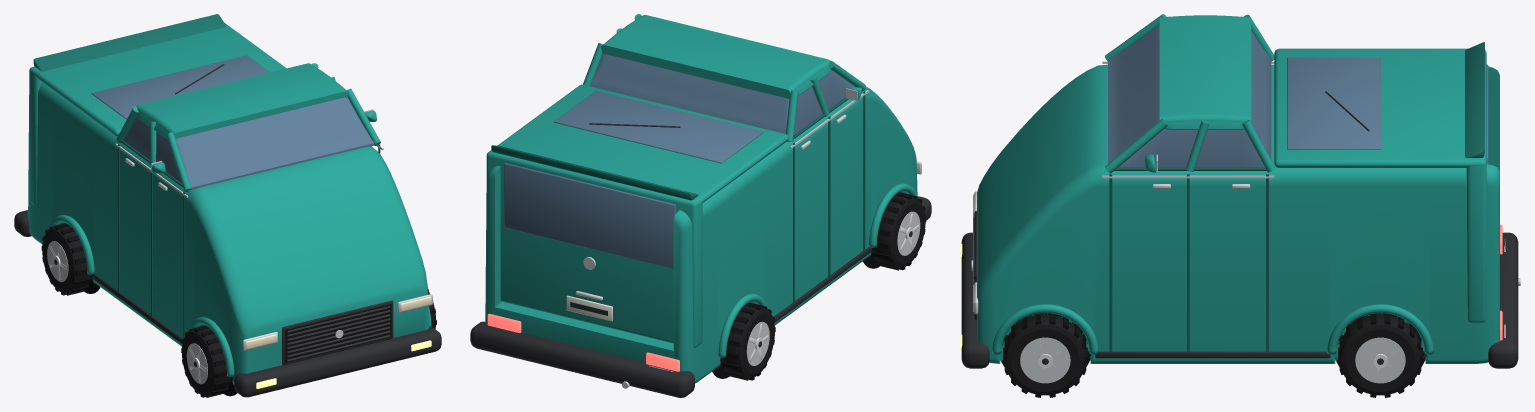
The model's file is records.fbx.
3 views of the same model, side by side, from view 1: azimuth 30°, elevation 25°; view 2: azimuth 150°, elevation 25°; view 3: azimuth 270°, elevation 25° (orthographic). The views are drawn at different scales.
Visible parts, largest first — view 1: Body, Lid, Wheel_1, Wheel_3, LidFlap; view 2: Body, LidFlap, Lid, Wheel_3, Wheel_1; view 3: Body, Lid, Wheel_0, Wheel_2, LidFlap.
Boxes of the visible parts, x1,y1,x2,y2 form: Body: (14,63,441,397); Lid: (29,14,286,136); Wheel_1: (41,223,91,295); Wheel_3: (181,325,231,397); LidFlap: (29,67,42,206); Body: (470,14,931,397); LidFlap: (486,151,702,347); Lid: (486,84,788,206); Wheel_3: (872,192,926,270); Wheel_1: (721,302,775,380); Body: (960,14,1520,368); Lid: (1274,42,1486,167); Wheel_0: (1338,313,1422,397); Wheel_2: (1003,313,1087,397); LidFlap: (1466,64,1488,322).
Size of the model in its own units: 5.5 by 5.26 by 9.76.
